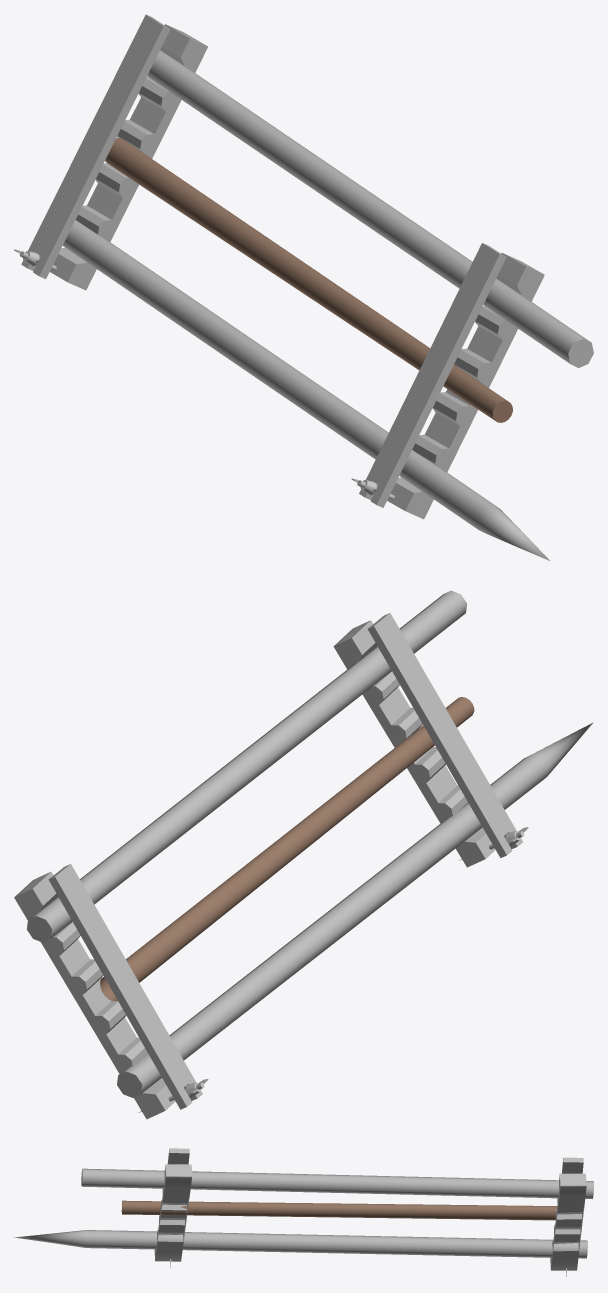
The model's file is 3BarSideCOEL.fbx.
The picture shows the model from 3 angles, top to bottom: view 1: azimuth 30°, elevation 25°; view 2: azimuth 150°, elevation 25°; view 3: azimuth 270°, elevation 25°; orthographic projection. The views are drawn at different scales.
Parts seen in each view (by area): view 1: polySurface47.003; view 2: polySurface47.003; view 3: polySurface47.003.
Part boxes in pixels (left/top/right/bottom): polySurface47.003: left=14, top=14, right=593, bottom=560; polySurface47.003: left=14, top=590, right=593, bottom=1119; polySurface47.003: left=14, top=1148, right=593, bottom=1276.
Size of the model in its own units: 2.63 by 0.5685 by 0.7576.
